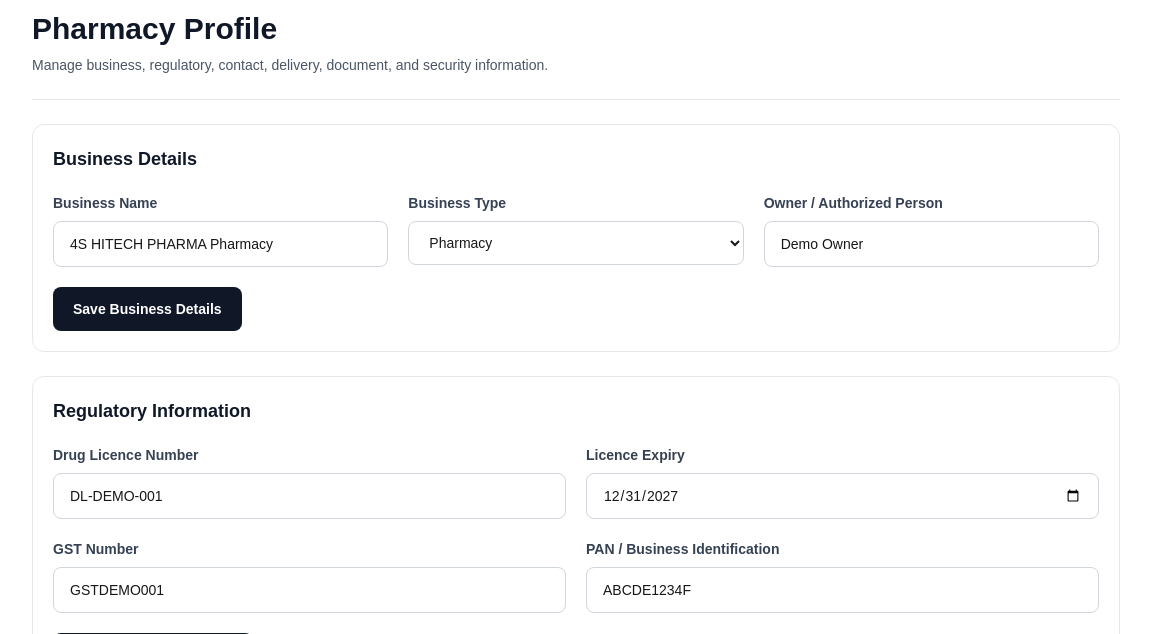
Test case: Pharmacy Profile integration › saves business and contact details
This screenshot has width=1152, height=634.
Replace the text in the field labelled "Business Name" with "City Care Pharmacy": [221, 244] box [53,221,388,267]
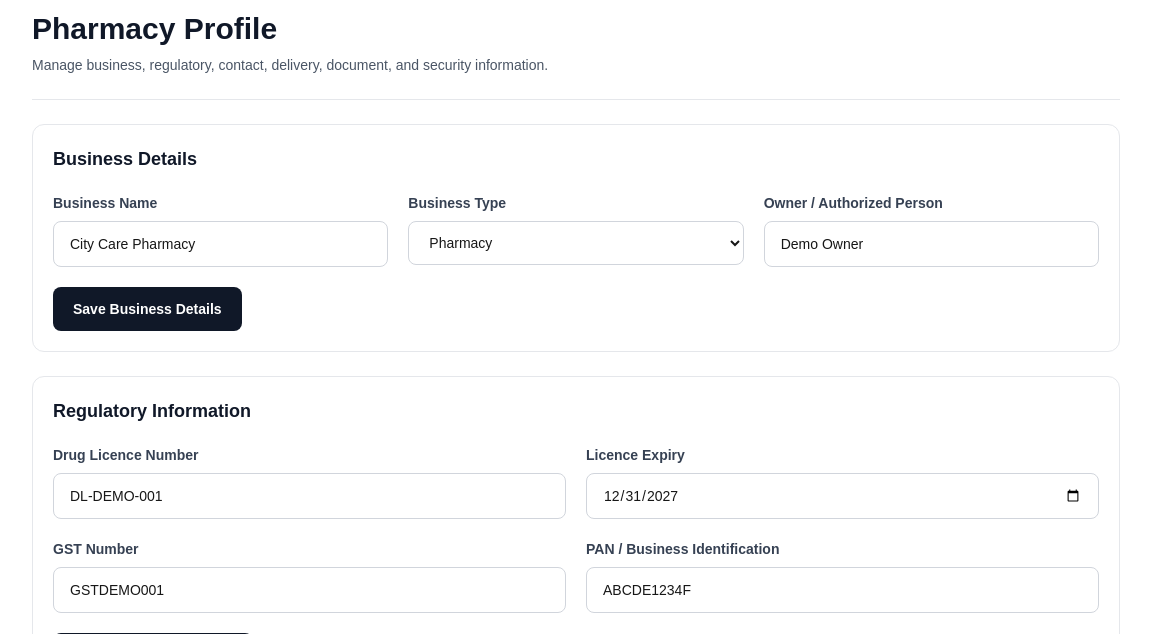
Click the button "Save Business Details": [147, 309] box [53,287,242,331]
(page scrolled)
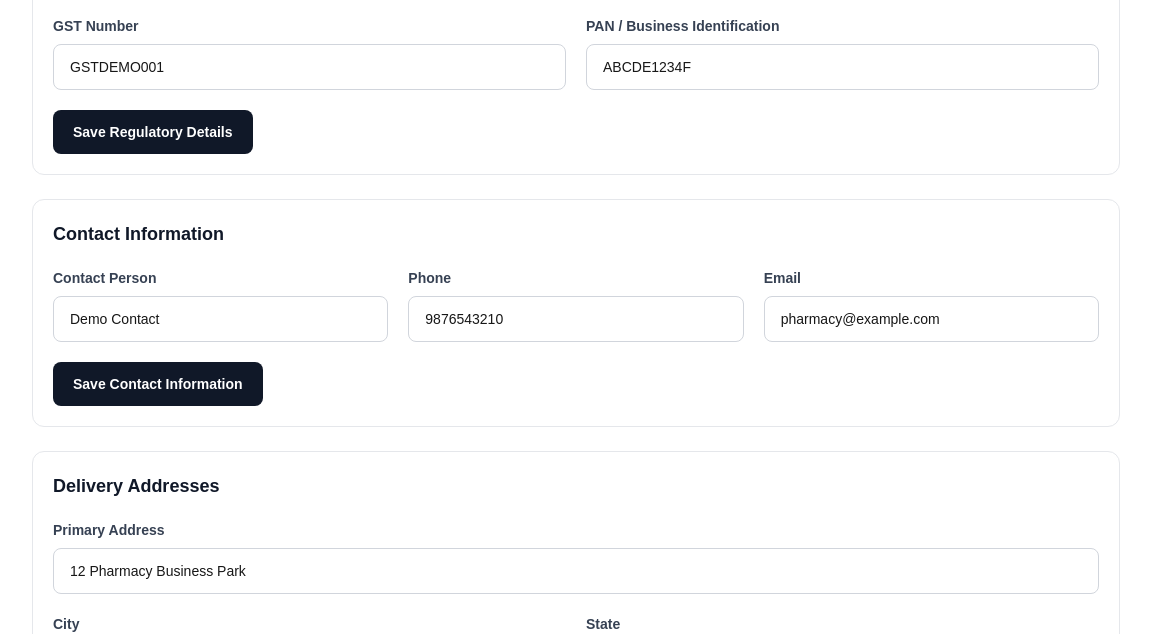
Replace the text in the field labelled "Contact Person" with "New Contact": [221, 319] box [53,296,388,342]
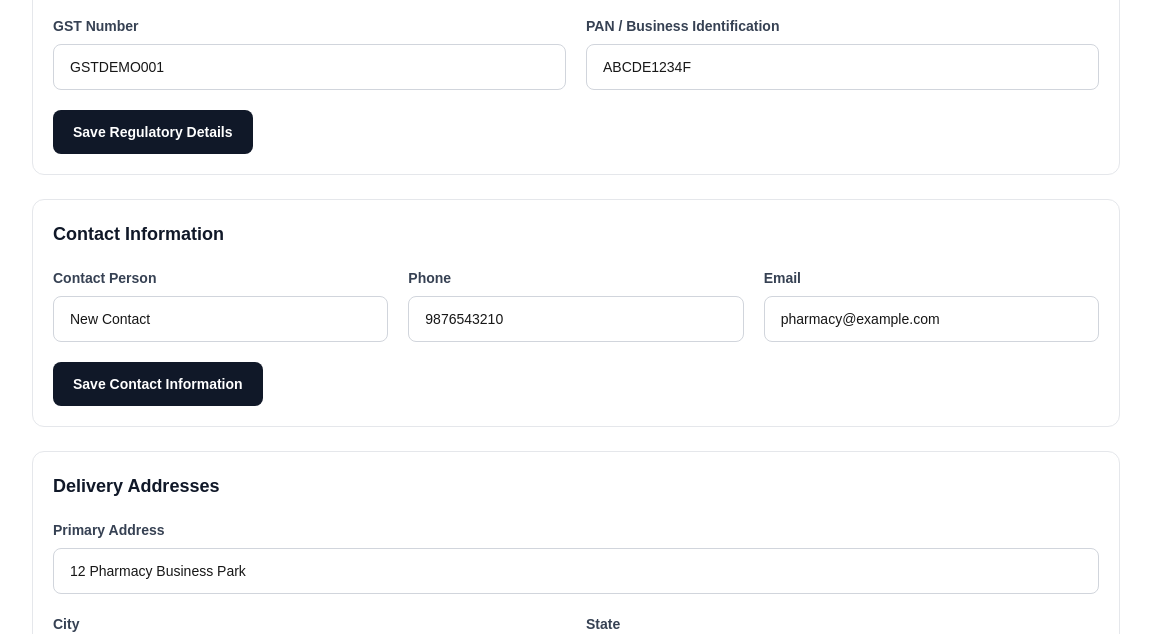
Click the button "Save Contact Information": [158, 384] box [53,362,263,406]
(page scrolled)
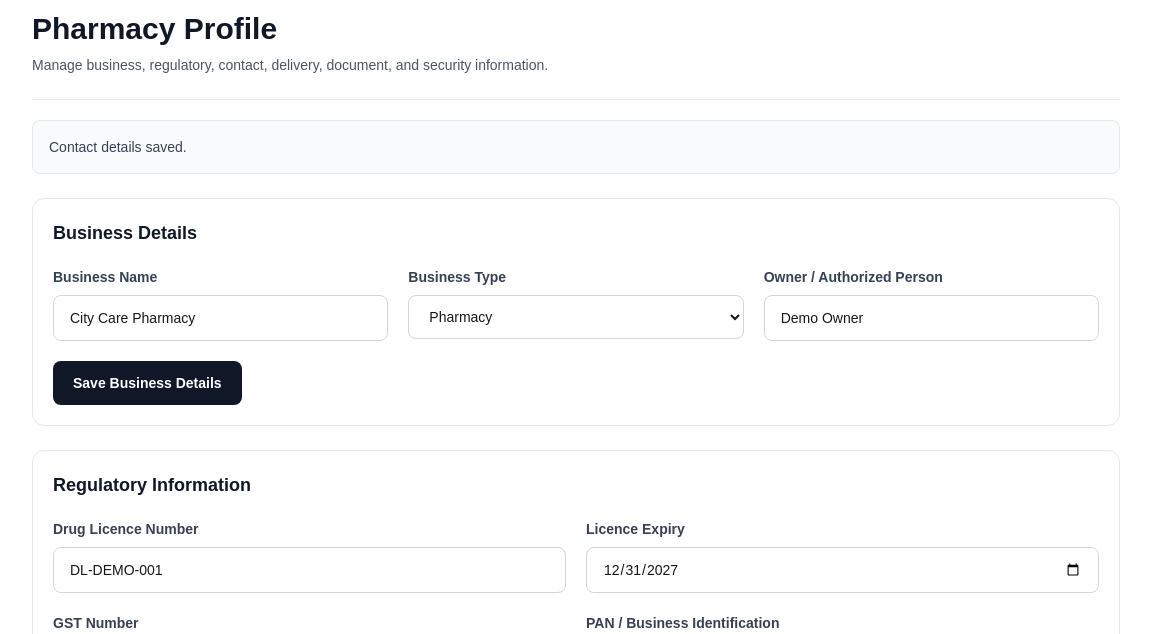
Expected: the text "Contact details saved." is shown, [32,120,1120,174]
